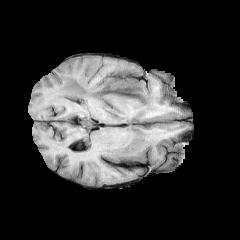glioma: (56, 70, 155, 120)
